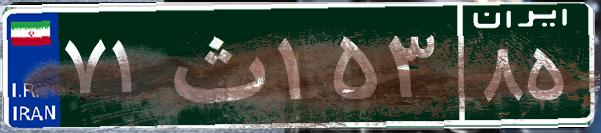1: (273, 28, 330, 110), (110, 28, 158, 105)
3: (385, 28, 445, 110)
5: (330, 28, 385, 110), (525, 38, 570, 115)
7: (57, 26, 110, 107)
8: (475, 38, 525, 113)
ث: (158, 15, 273, 115)
